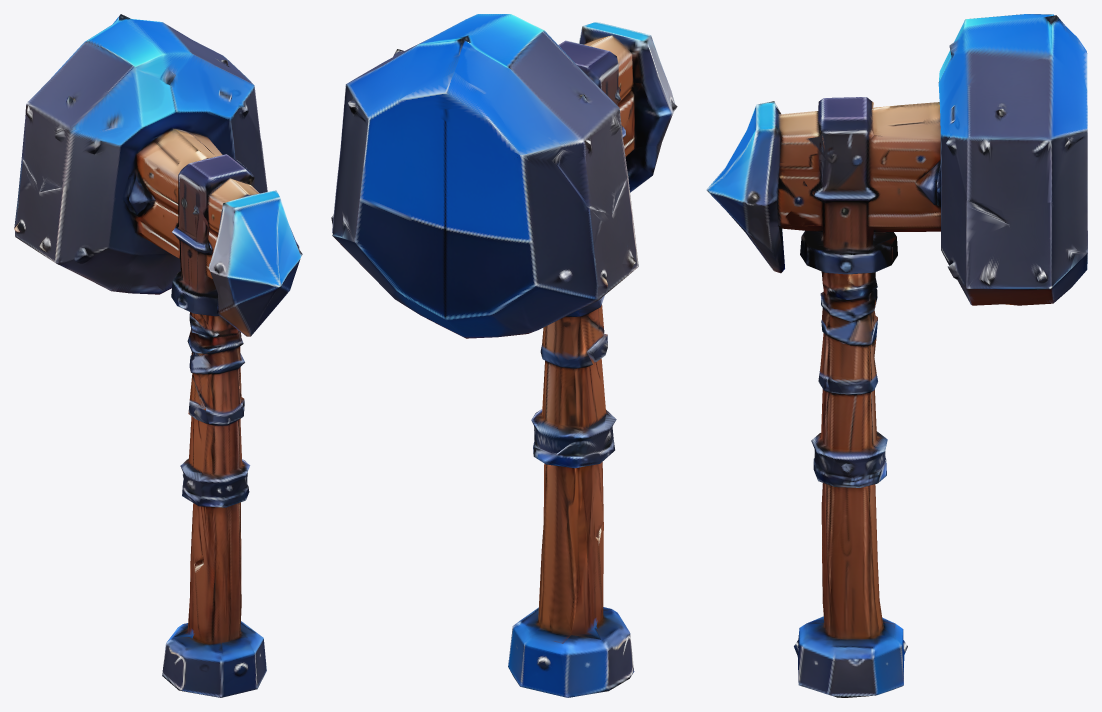
The model's file is weapon_hammer.fbx.
3 views of the same model, side by side, from view 1: azimuth 30°, elevation 25°; view 2: azimuth 150°, elevation 25°; view 3: azimuth 270°, elevation 25° (orthographic). The views are drawn at different scales.
Visible parts, largest first — view 1: model; view 2: model; view 3: model.
Boxes of the visible parts, x1,y1,x2,y2 form: model: [14, 14, 302, 697]; model: [331, 14, 677, 697]; model: [706, 14, 1087, 697].
Bounding box in the file's own units: 71.13 × 182 × 92.22.
